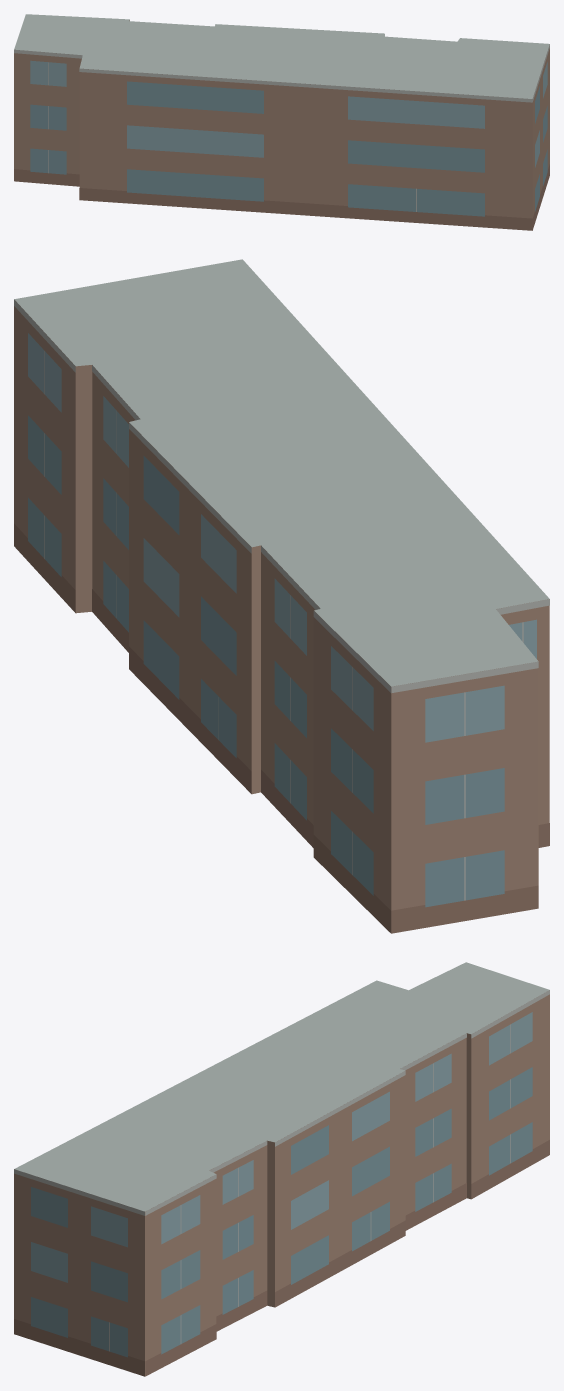
The model's file is survey-upis-32766868.glb.
The picture shows the model from 3 angles, top to bottom: view 1: azimuth 30°, elevation 25°; view 2: azimuth 150°, elevation 25°; view 3: azimuth 270°, elevation 25°; orthographic projection. The views are drawn at different scales.
Parts seen in each view (by area): view 1: survey-upis-32766868.tmp; view 2: survey-upis-32766868.tmp; view 3: survey-upis-32766868.tmp.
Part boxes in pixels (left/top/right/bottom): survey-upis-32766868.tmp: left=14, top=14, right=549, bottom=230; survey-upis-32766868.tmp: left=14, top=259, right=549, bottom=933; survey-upis-32766868.tmp: left=14, top=962, right=549, bottom=1376.
Bounding box in the file's own units: 29.66 × 9.15 × 26.92.
